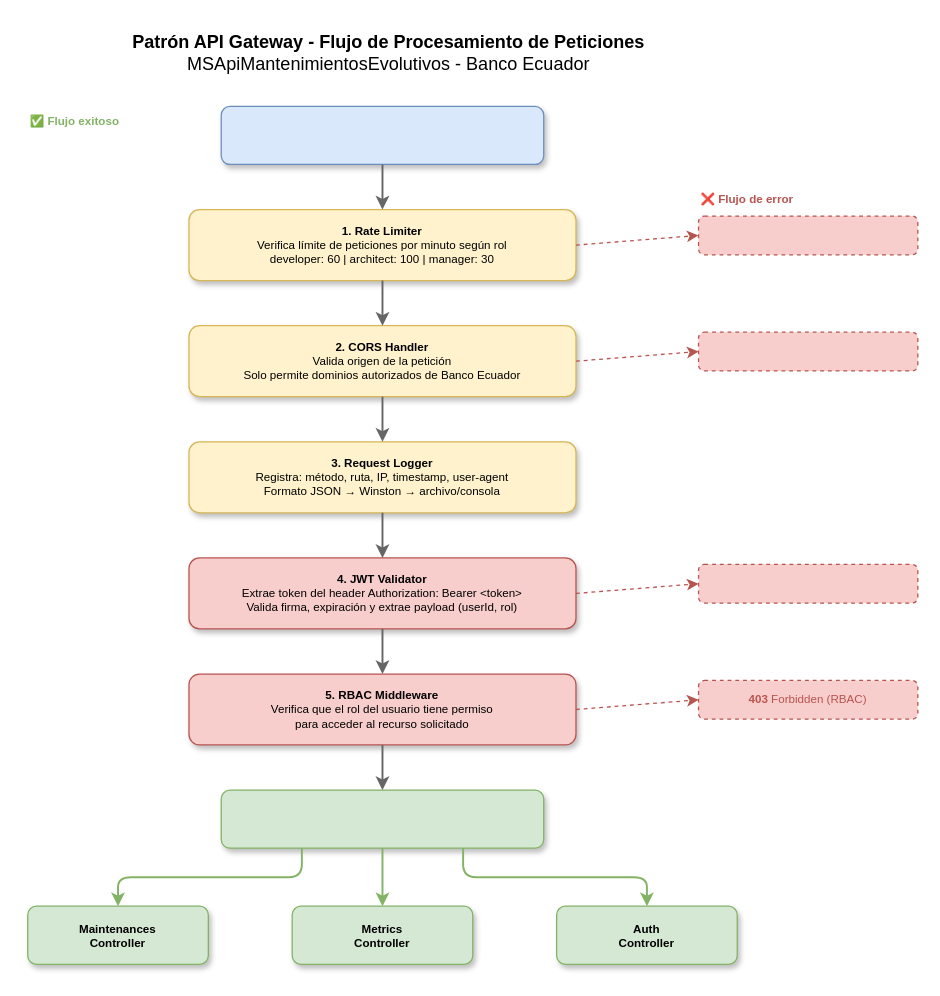
Some shapes in this 940 by 996 pixel diagram are drawn without their labels. Each missing label, with the centre of its shape:
"401 Unauthorized" goes at (807,583).
"403 Forbidden (CORS)" goes at (807,351).
"429 Too Many Requests" goes at (807,235).
"6. Router Dirige al controlador correspondiente" goes at (383,820).
"Petición HTTP entrante GET /api/v1/maintenances" goes at (383,137).
